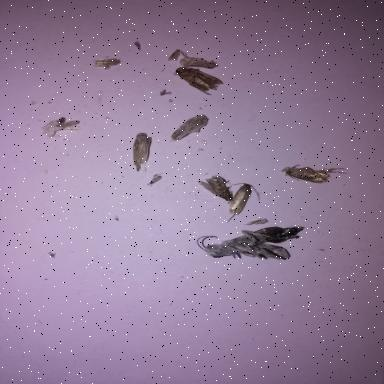pbw: (176, 68, 224, 96), (228, 184, 260, 224), (282, 165, 348, 184), (170, 115, 210, 142), (198, 176, 234, 202), (134, 133, 152, 172), (180, 58, 219, 70), (94, 58, 122, 68), (168, 50, 190, 62)
